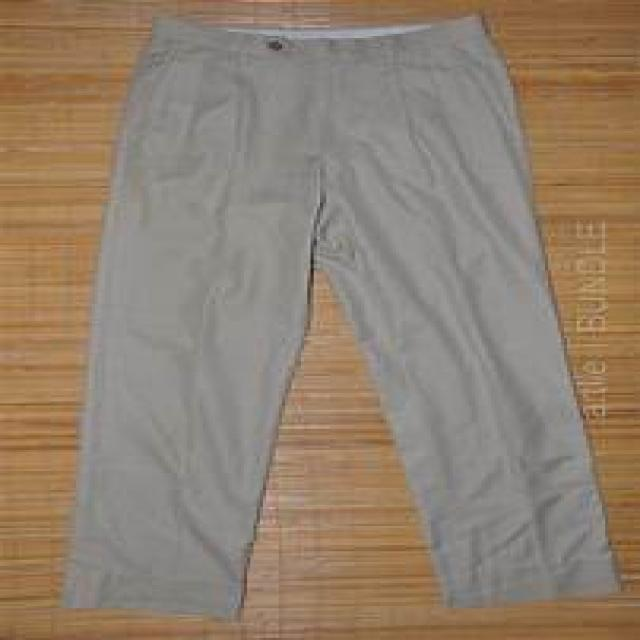long-pants: (58, 15, 630, 622)
